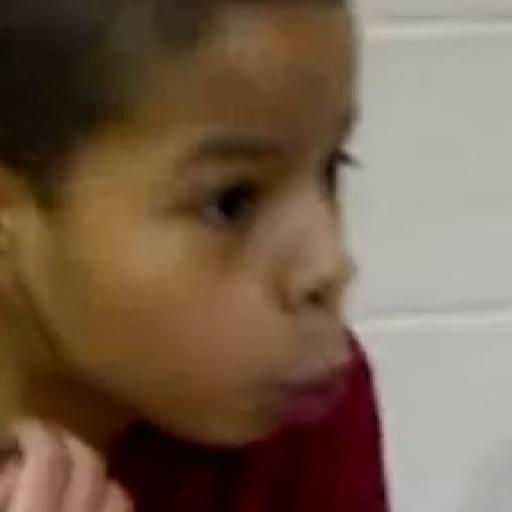Autism: (26, 0, 444, 512)
